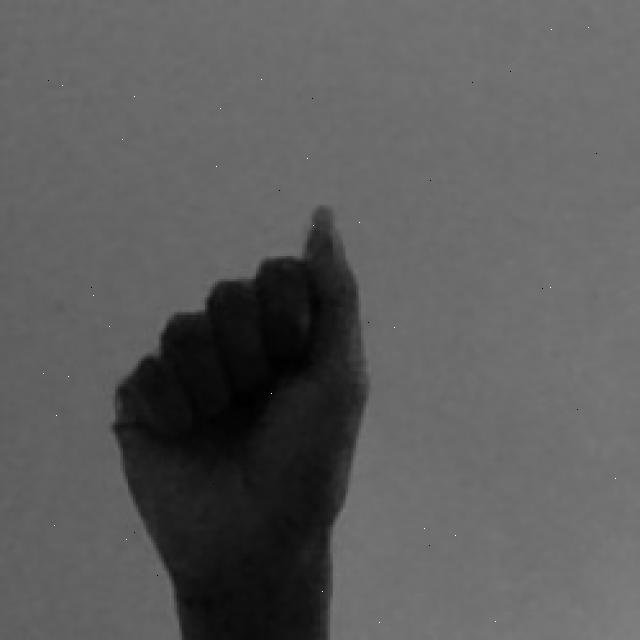A: (107, 199, 373, 640)
